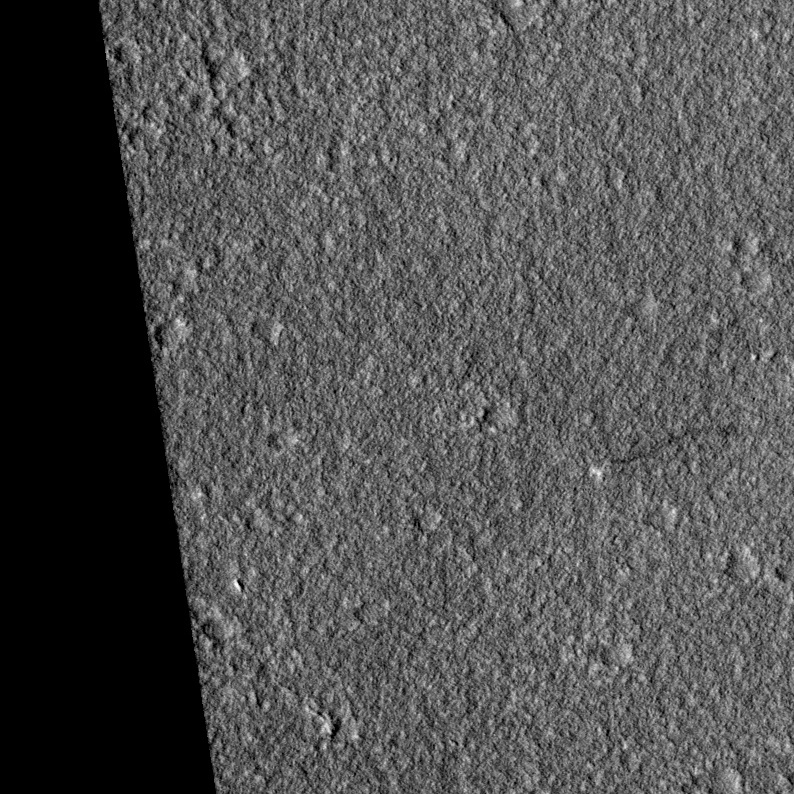dust_devil: (587, 431, 682, 483)
